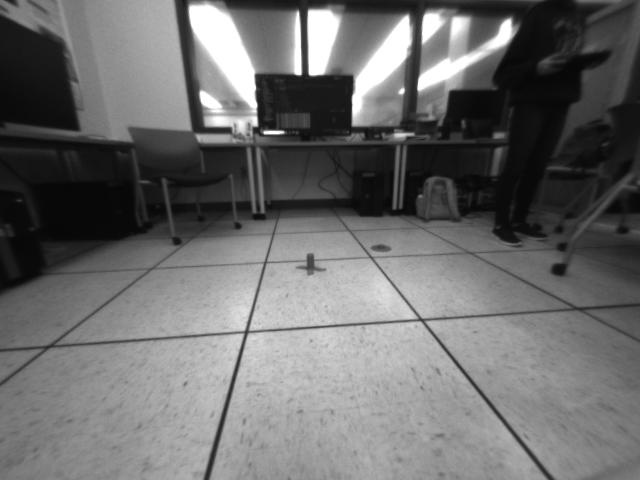X: (294, 252, 327, 277)
